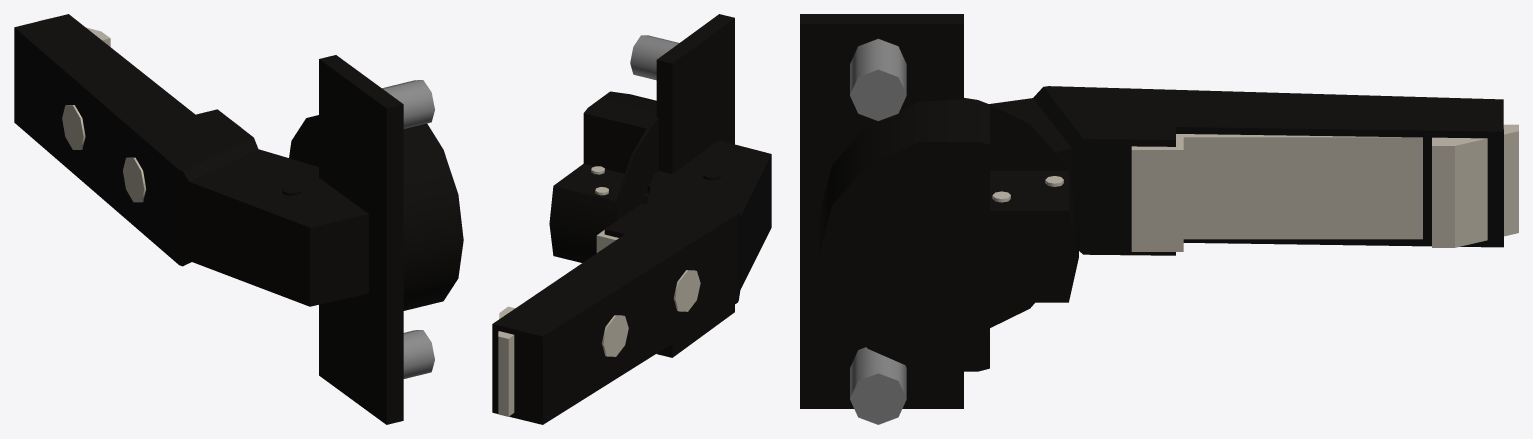
3 views of the same model, side by side, from view 1: azimuth 30°, elevation 25°; view 2: azimuth 150°, elevation 25°; view 3: azimuth 270°, elevation 25° (orthographic). The views are drawn at different scales.
Parts seen in each view (by area): view 1: bau0016451269-1, bau0015166285-1; view 2: bau0016451269-1, bau0015166285-1, bau0019426112-2; view 3: bau0015166285-1, bau0019426112-2, bau0016451269-1.
Part boxes in pixels (x1=…): bau0016451269-1: x1=14, y1=14, x2=368, y2=306; bau0015166285-1: x1=289, y1=55, x2=463, y2=424; bau0016451269-1: x1=492, y1=140, x2=771, y2=424; bau0015166285-1: x1=549, y1=14, x2=734, y2=357; bau0019426112-2: x1=498, y1=230, x2=618, y2=416; bau0015166285-1: x1=800, y1=14, x2=1078, y2=424; bau0019426112-2: x1=1131, y1=124, x2=1518, y2=251; bau0016451269-1: x1=989, y1=86, x2=1503, y2=255.
Size of the model in its own units: 35.82 by 57 by 96.5.
